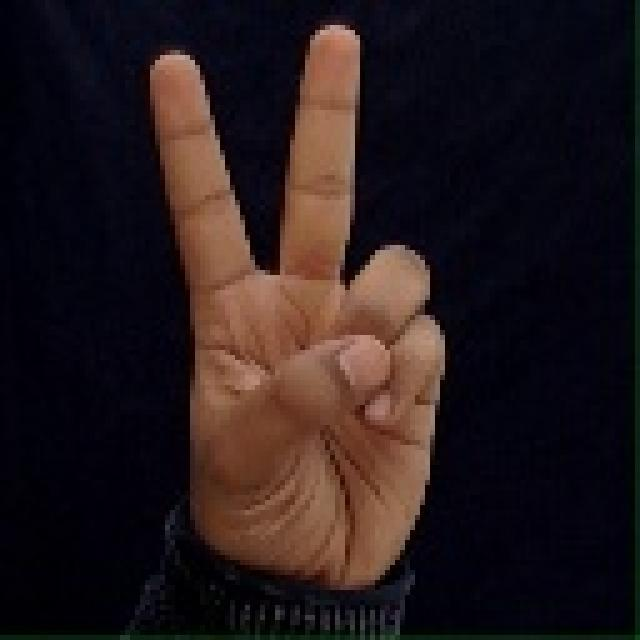No: (129, 0, 469, 640)
